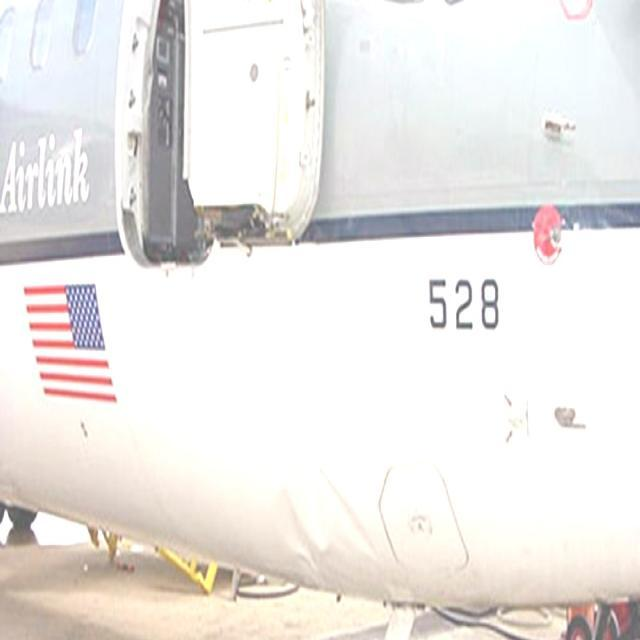dent: (281, 479, 384, 579)
